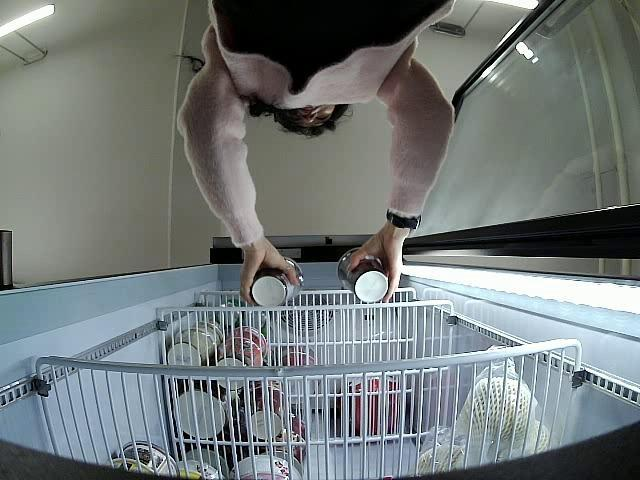08_buldak_S: (338, 250, 388, 304), (251, 257, 302, 308)
